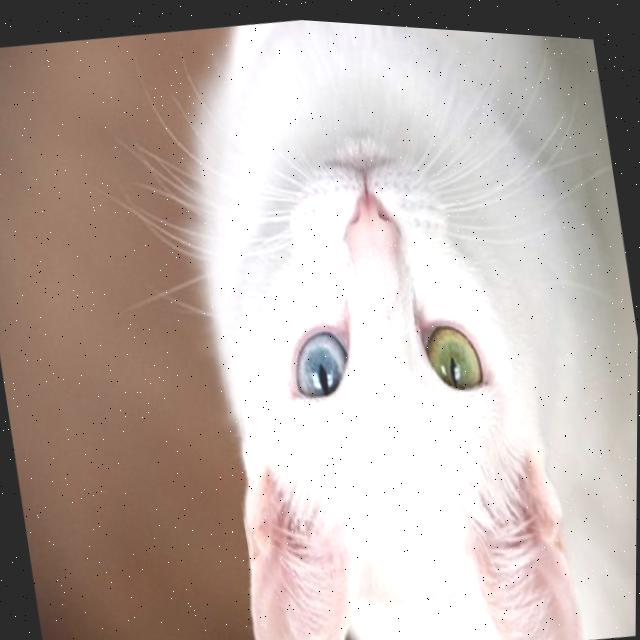Khao Manee: (154, 8, 640, 640)
